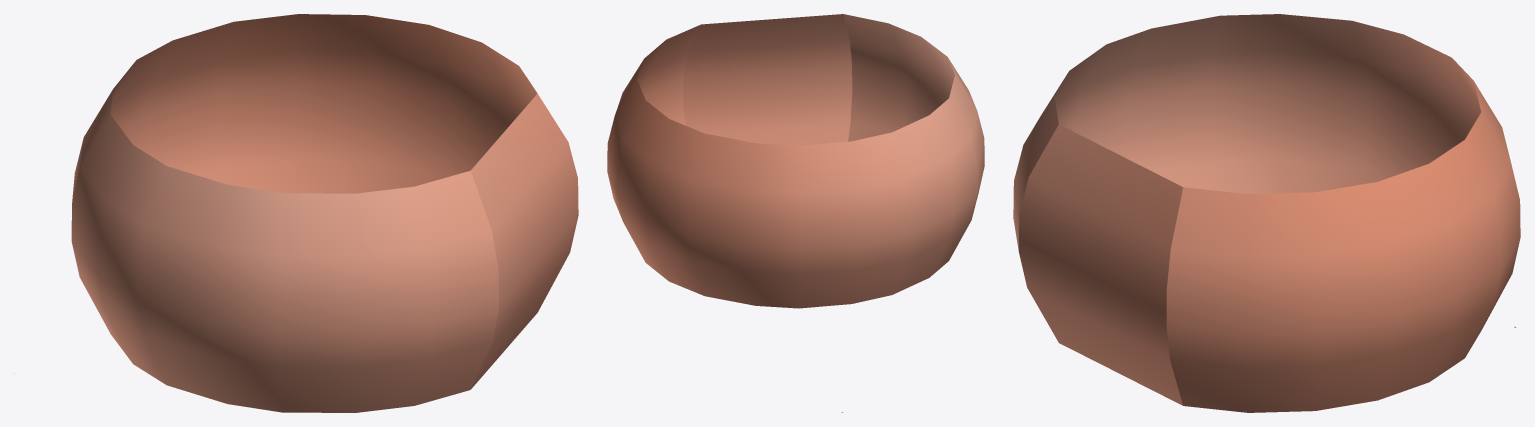
Rendered from Mall_Glass.glb.
The picture shows the model from 3 angles, left to right: view 1: azimuth 30°, elevation 25°; view 2: azimuth 150°, elevation 25°; view 3: azimuth 270°, elevation 25°; orthographic projection. The views are drawn at different scales.
Visible parts, largest first — view 1: Mall_Ext.445; view 2: Mall_Ext.445; view 3: Mall_Ext.445.
Part boxes in pixels (x1,y1,x2,y2): Mall_Ext.445: (71, 14, 578, 412); Mall_Ext.445: (607, 14, 984, 308); Mall_Ext.445: (1013, 14, 1520, 412).
Bounding box in the file's own units: 68.26 × 46.65 × 68.34.
Materials: 1 (1 with a texture image).
